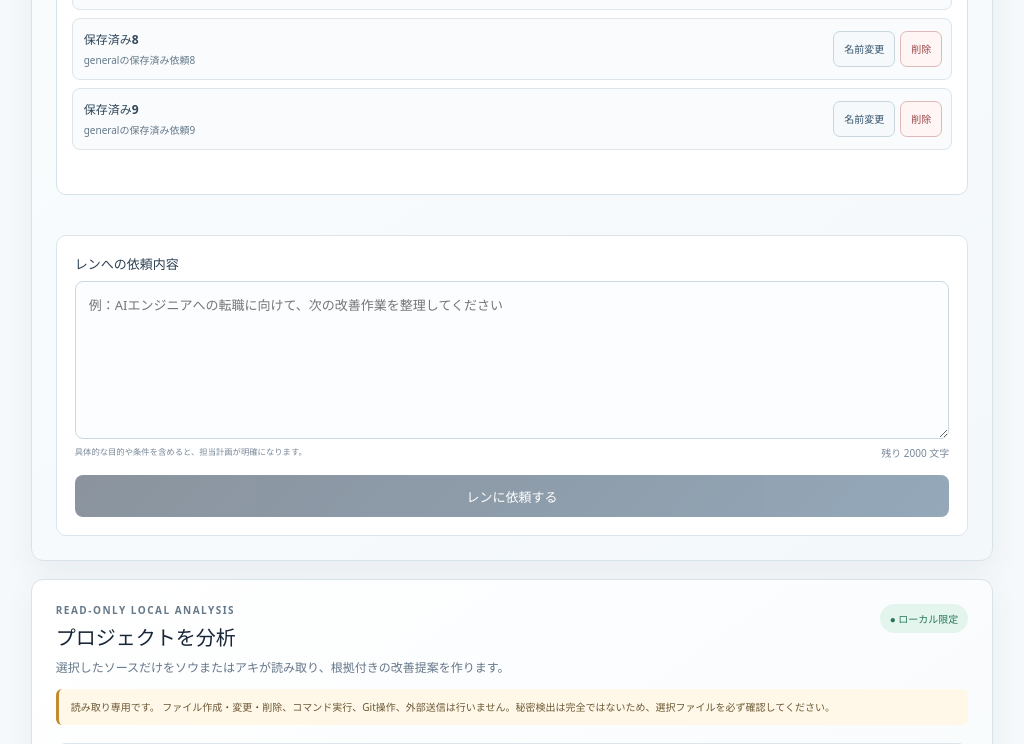
Test: custom request templates UI › reports the per-category limit in Japanese
The width and height of the screenshot is (1024, 744).
(page scrolled)
Type "毎日のタスクを優先順位と期限で整理してください。" into the text box labelled "レンへの依頼内容". click: (512,360)
box: x1=75 y1=281 x2=949 y2=439
(page scrolled)
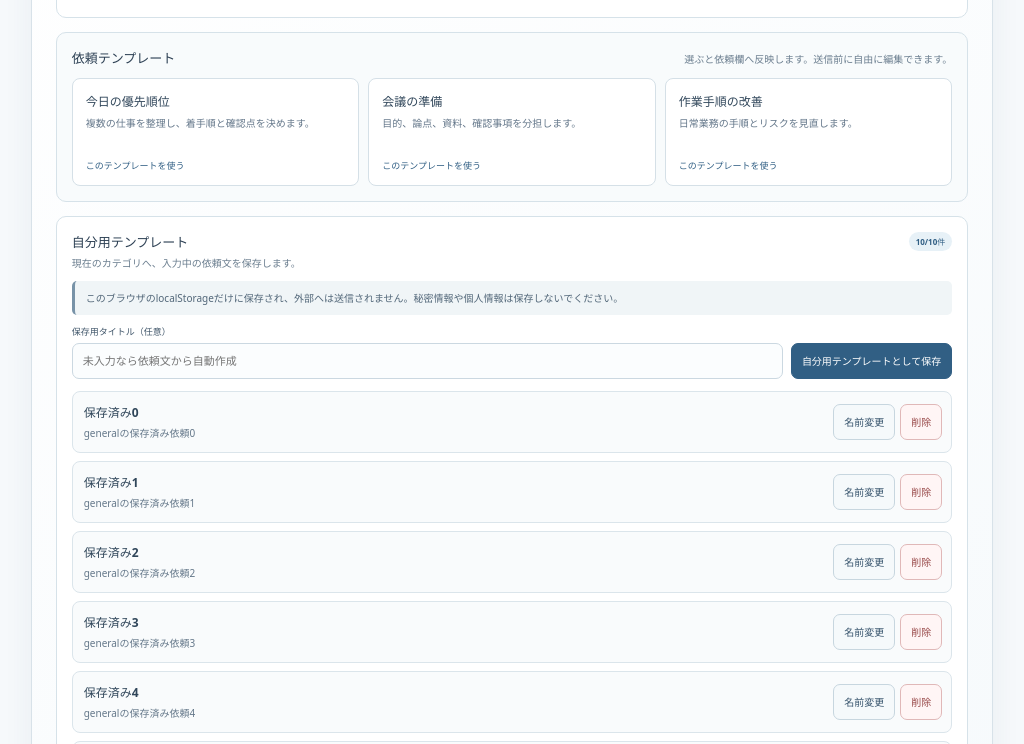
Click the button "自分用テンプレートとして保存". click: (872,361)
box: x1=791 y1=343 x2=952 y2=379
(page scrolled)
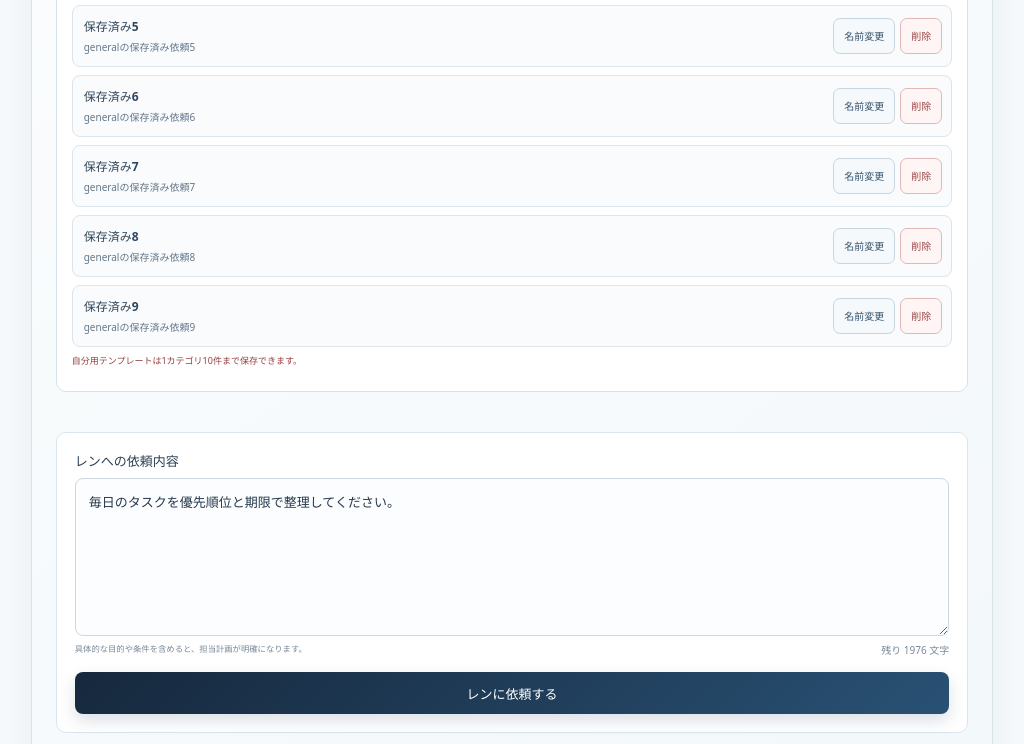
Result: the message shows "1カテゴリ10件まで" at x1=72 y1=354 x2=302 y2=367
